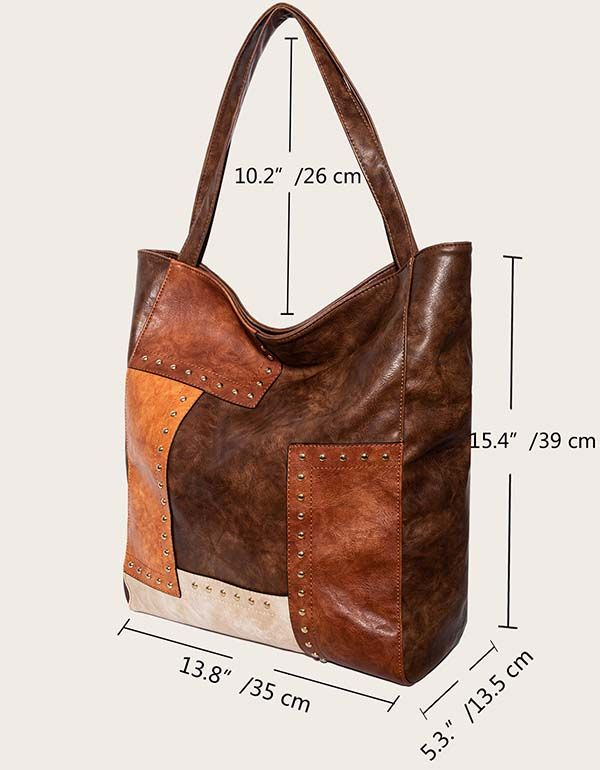cuero: (123, 2, 472, 683)
